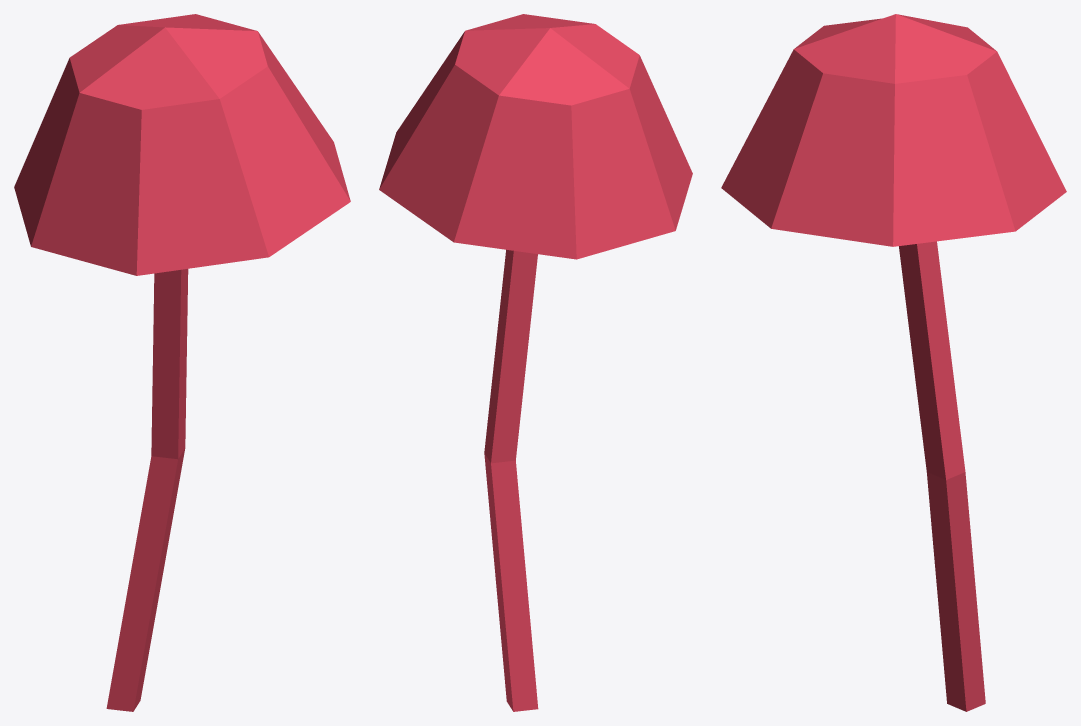
The model's file is Mushroom_c_01.fbx.
The picture shows the model from 3 angles, left to right: view 1: azimuth 30°, elevation 25°; view 2: azimuth 150°, elevation 25°; view 3: azimuth 270°, elevation 25°; orthographic projection. The views are drawn at different scales.
Parts seen in each view (by area): view 1: Mushroom_c_01; view 2: Mushroom_c_01; view 3: Mushroom_c_01.
Boxes of the visible parts, <box> form: Mushroom_c_01: <box>14,14,350,711</box>; Mushroom_c_01: <box>379,14,692,711</box>; Mushroom_c_01: <box>721,14,1066,711</box>.
Size of the model in its own units: 0.1541 by 0.3423 by 0.1549.
